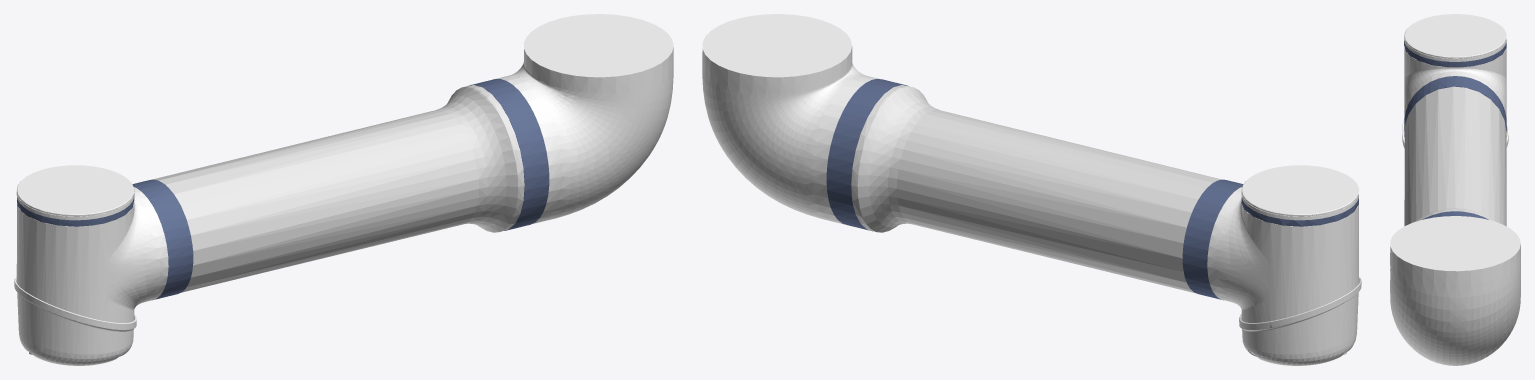
The model's file is forearm.dae.
The picture shows the model from 3 angles, left to right: view 1: azimuth 30°, elevation 25°; view 2: azimuth 150°, elevation 25°; view 3: azimuth 270°, elevation 25°; orthographic projection. The views are drawn at different scales.
Visible parts, largest first — view 1: cs66_link3_part1, cs66_link3_part3, cs66_link3_part2; view 2: cs66_link3_part1, cs66_link3_part3, cs66_link3_part2; view 3: cs66_link3_part1, cs66_link3_part3, cs66_link3_part2.
Part boxes in pixels (left/top/right/bottom): cs66_link3_part1: left=14, top=14, right=673, bottom=365; cs66_link3_part3: left=152, top=85, right=524, bottom=292; cs66_link3_part2: left=17, top=79, right=549, bottom=299; cs66_link3_part1: left=702, top=14, right=1361, bottom=365; cs66_link3_part3: left=851, top=85, right=1221, bottom=293; cs66_link3_part2: left=826, top=78, right=1358, bottom=300; cs66_link3_part1: left=1390, top=14, right=1520, bottom=365; cs66_link3_part3: left=1390, top=86, right=1506, bottom=270; cs66_link3_part2: left=1404, top=41, right=1506, bottom=219.
Bounding box in the file's own units: 0.4786 × 0.097 × 0.1282.
